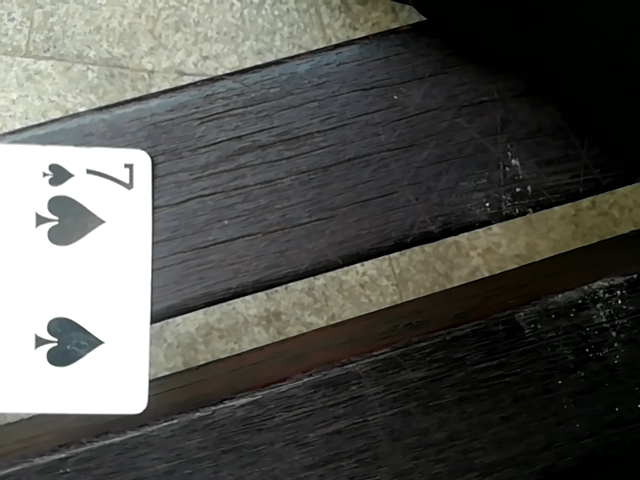ht 7: (0, 130, 144, 425)
